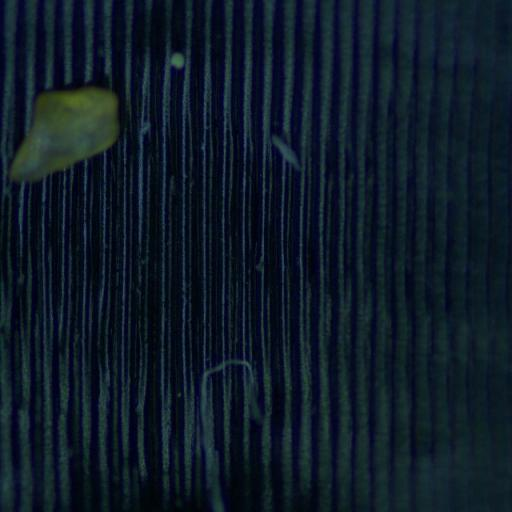mineral: (10, 86, 118, 181)
